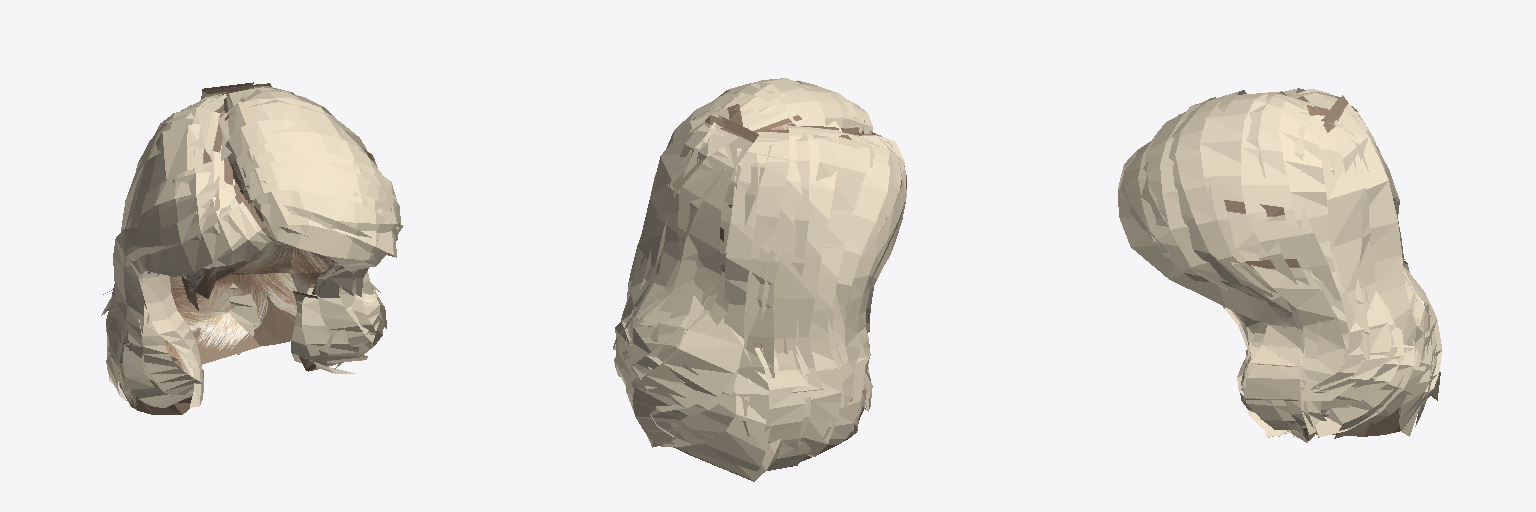
The picture shows the model from 3 angles: view 1: azimuth 30°, elevation 25°; view 2: azimuth 150°, elevation 25°; view 3: azimuth 270°, elevation 25°; orthographic projection.
Parts seen in each view (by area): view 1: hair_006.002; view 2: hair_006.002; view 3: hair_006.002.
Part boxes in pixels (bbox=[...]): hair_006.002: bbox=[101, 82, 402, 414]; hair_006.002: bbox=[613, 78, 906, 481]; hair_006.002: bbox=[1118, 88, 1441, 442].
Bounding box in the file's own units: 22.66 × 29.21 × 26.76.
Materials: 4 (1 with a texture image).